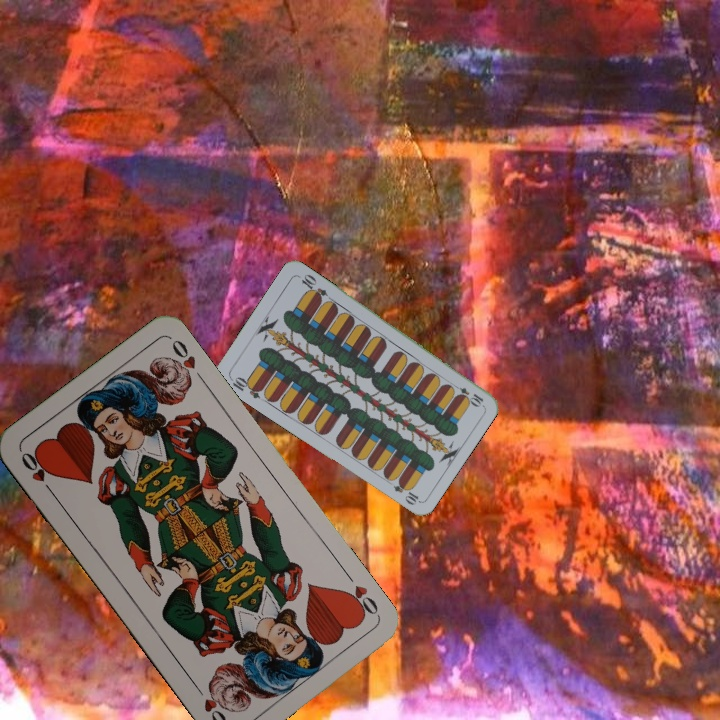E10: (226, 372, 265, 401), (448, 380, 486, 408)
HO: (339, 568, 382, 621), (16, 448, 58, 498)
